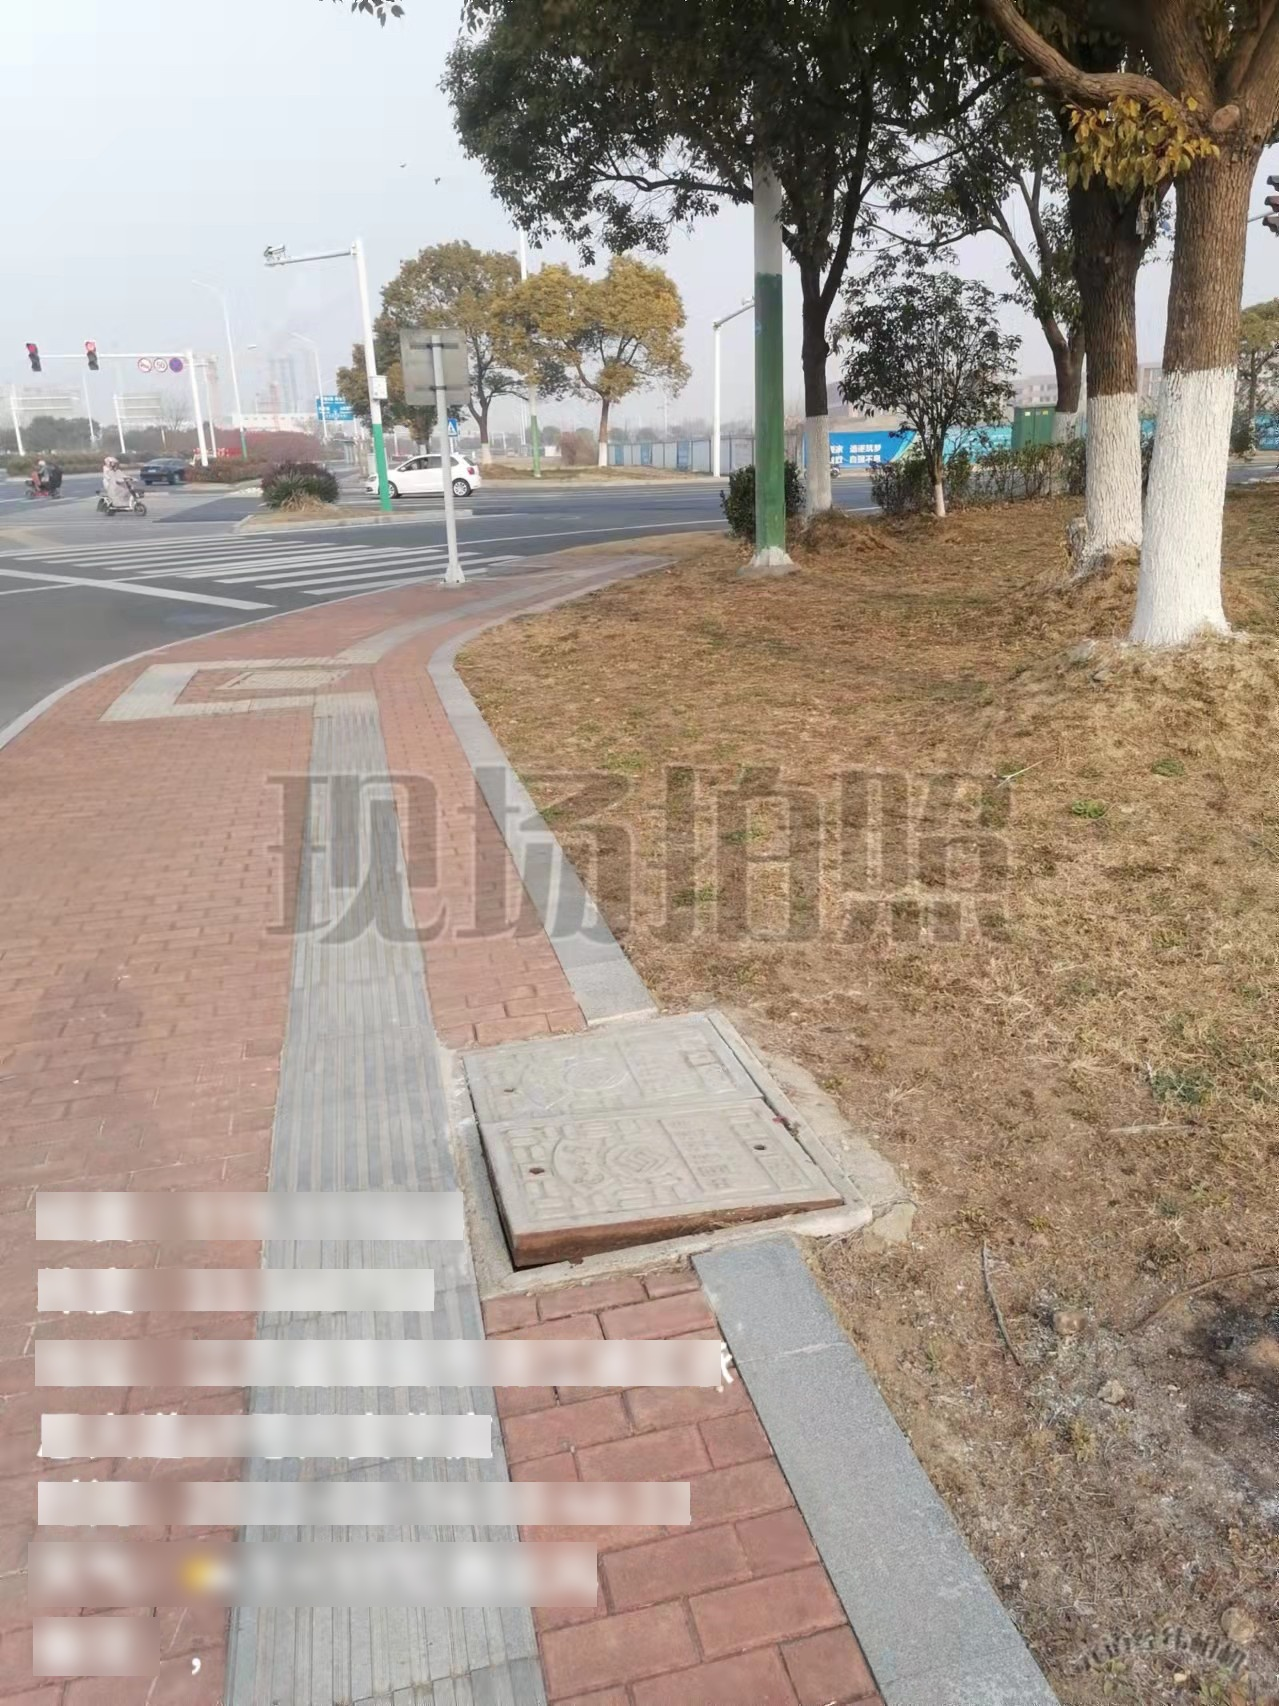uncovered: (439, 999, 863, 1300)
